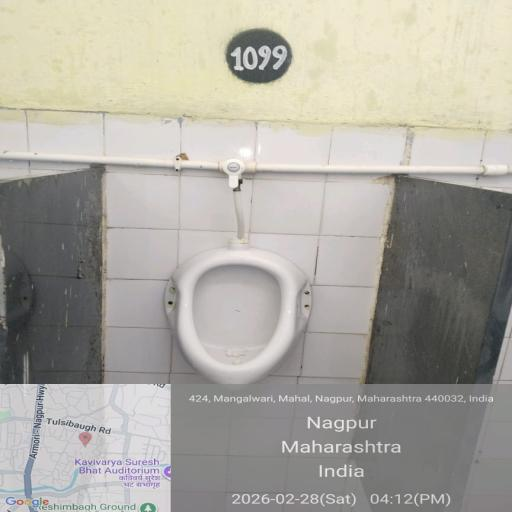clean_floor: (77, 356, 444, 512), (88, 120, 347, 251)
clean_urinal: (149, 246, 329, 385)
